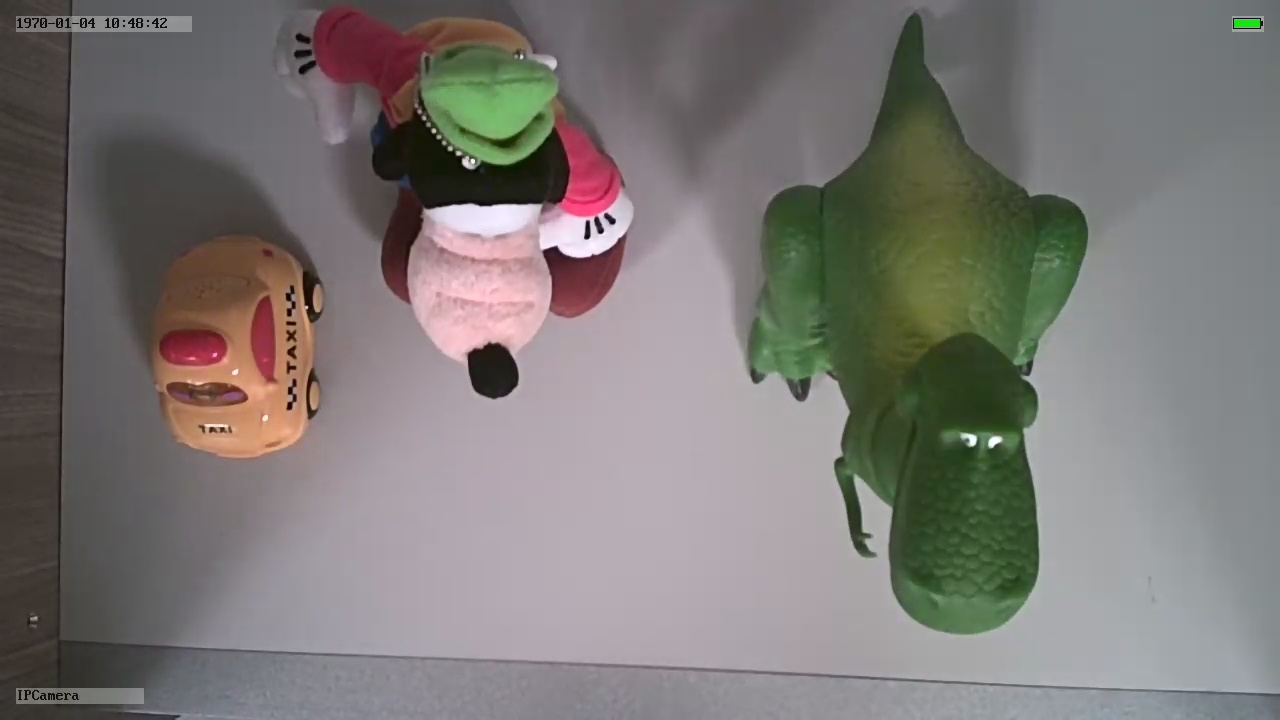car: (149, 233, 324, 458)
goofy: (276, 13, 638, 404)
rex: (750, 81, 1092, 635)
